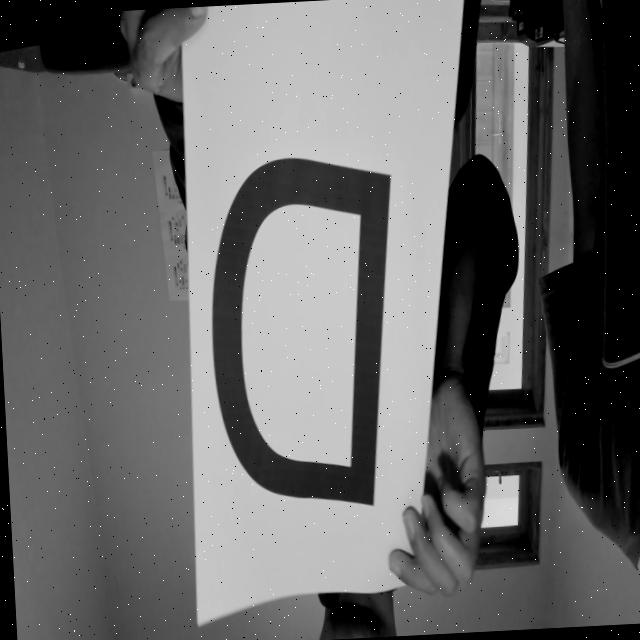d: (192, 120, 419, 542)
